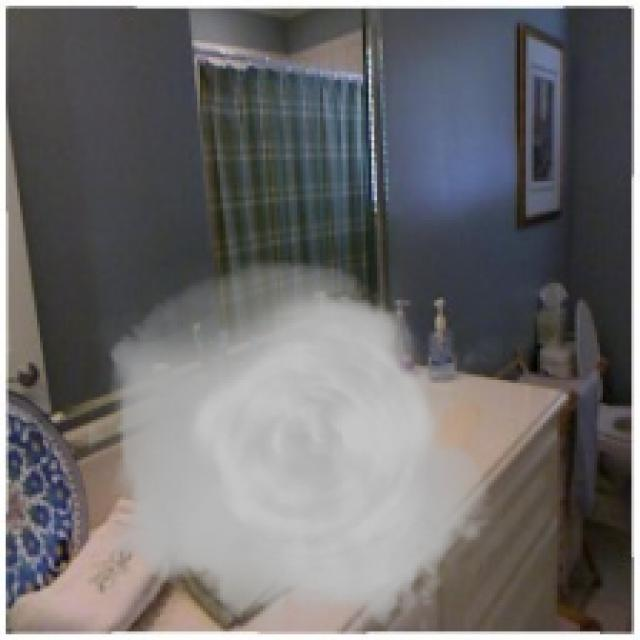smoke: (88, 260, 503, 631)
